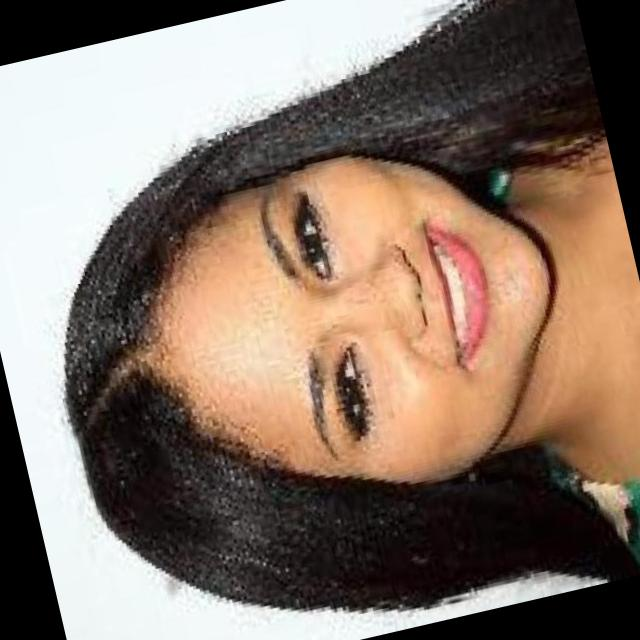bareface: (68, 79, 577, 548)
